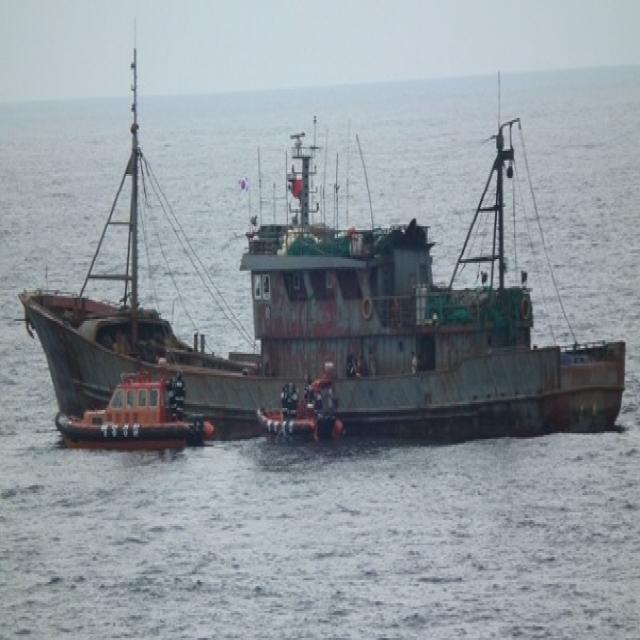Ship: (13, 98, 634, 454)
